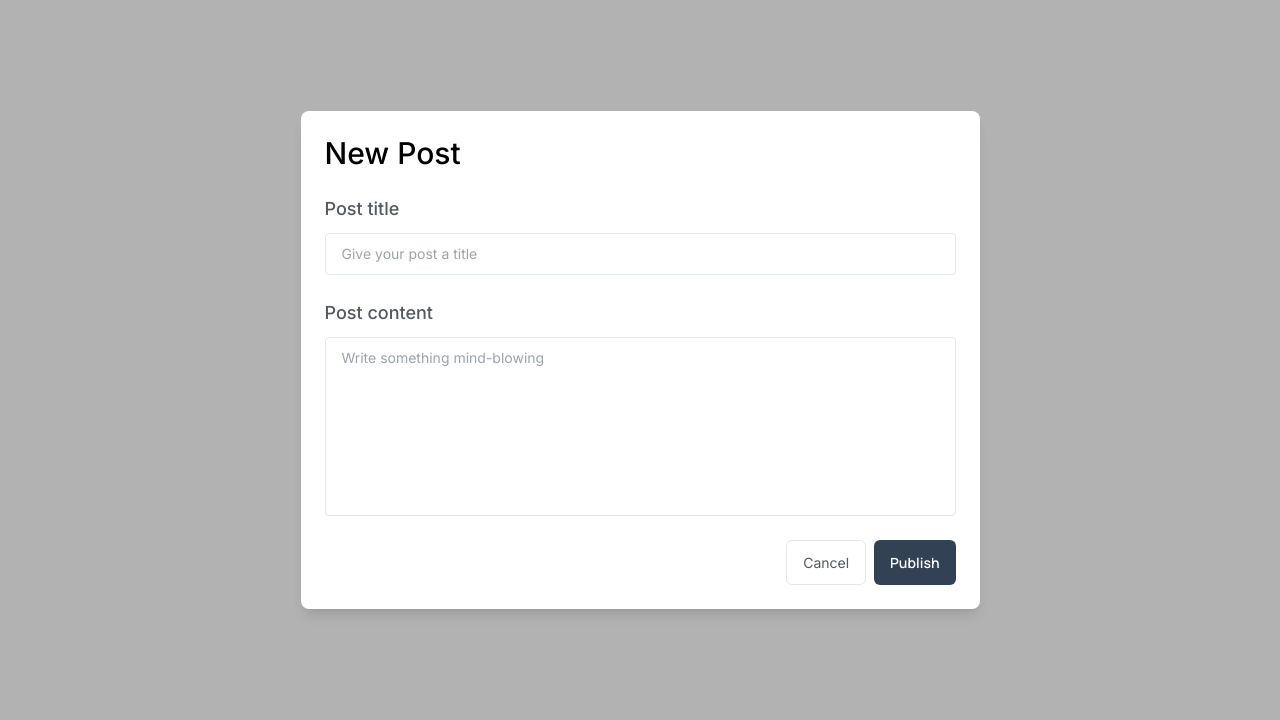
PostFormModal Component › should show validation error for short content
Type "short" into the text box labelled "Post content" at (640, 426), box [324,337,956,516]
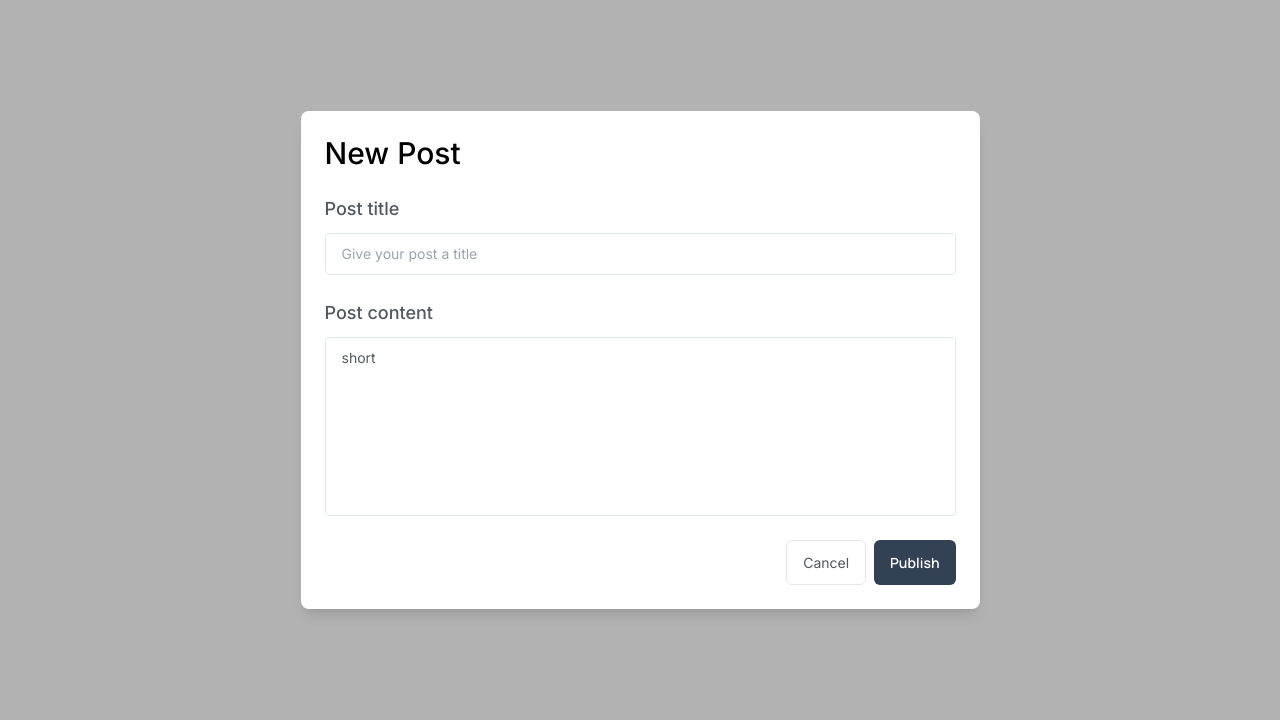
Submit the form, box [324,195,956,585]
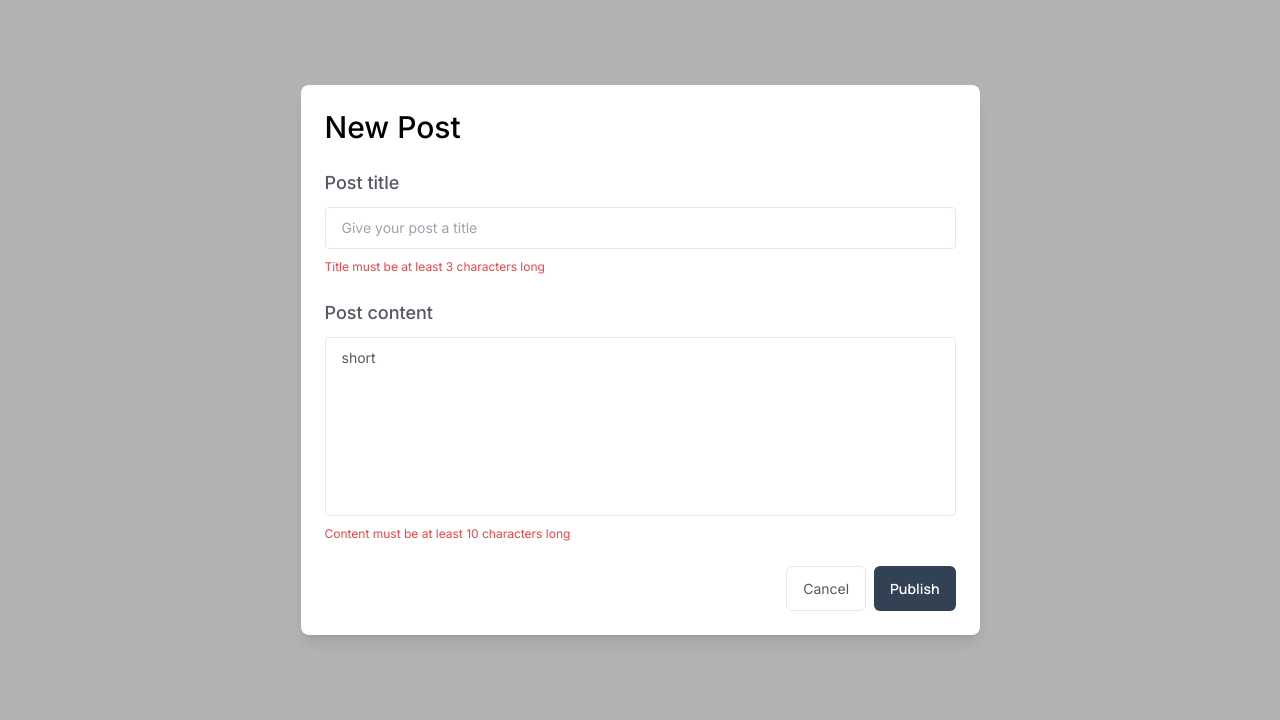
Expected: the text "Content must be at least 10 characters long" is shown, [324,526,570,541]
